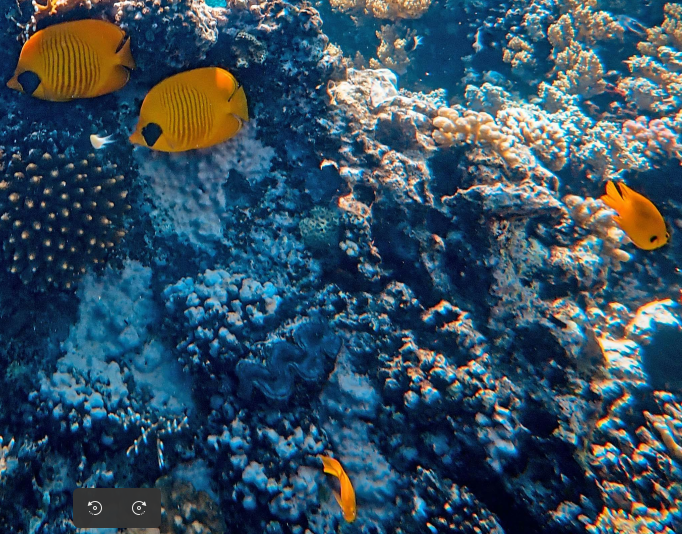fishRound: (5, 18, 134, 103), (129, 67, 251, 154)
fishSmall: (600, 177, 669, 252), (319, 453, 358, 524)
